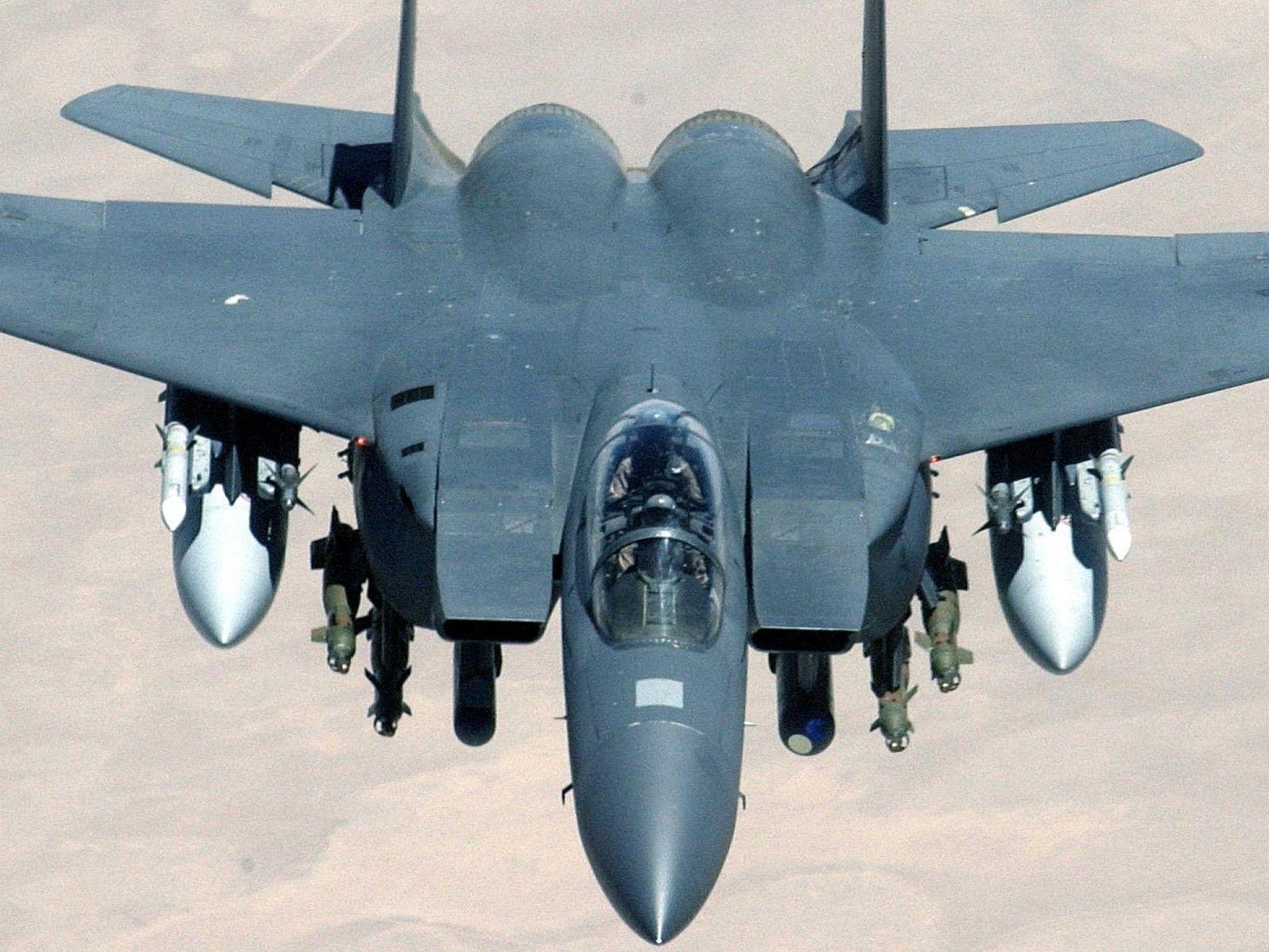aircraft: (39, 1, 1267, 935)
